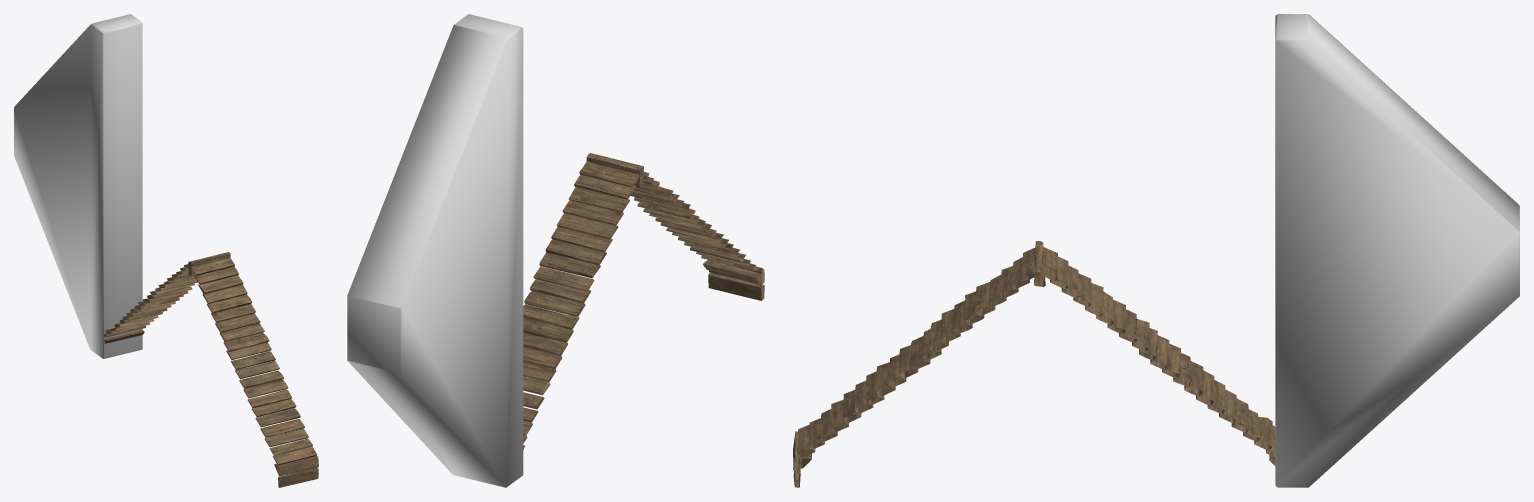
File: SM_Roof_Main_D.fbx
3 views of the same model, side by side, from view 1: azimuth 30°, elevation 25°; view 2: azimuth 150°, elevation 25°; view 3: azimuth 270°, elevation 25° (orthographic). The views are drawn at different scales.
Parts seen in each view (by area): view 1: SM_Roof_Main_D_ConvexHulls, SM_Roof_Main_D; view 2: SM_Roof_Main_D_ConvexHulls, SM_Roof_Main_D; view 3: SM_Roof_Main_D_ConvexHulls, SM_Roof_Main_D.
Boxes of the visible parts, x1,y1,x2,y2 form: SM_Roof_Main_D_ConvexHulls: (14, 14, 142, 358); SM_Roof_Main_D: (103, 252, 318, 487); SM_Roof_Main_D_ConvexHulls: (347, 14, 523, 487); SM_Roof_Main_D: (523, 153, 764, 449); SM_Roof_Main_D_ConvexHulls: (1275, 14, 1519, 487); SM_Roof_Main_D: (793, 241, 1275, 487).
Size of the model in its own units: 1.56 by 12.33 by 18.11.
